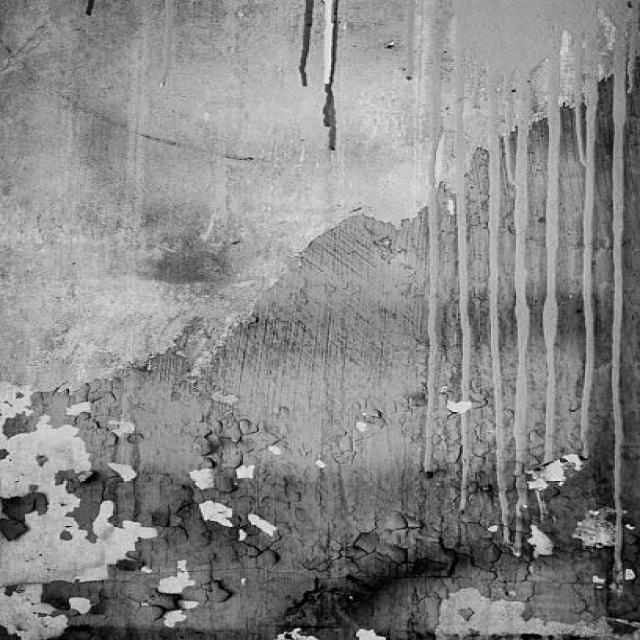paint drips: (397, 0, 640, 594), (294, 0, 352, 157), (149, 0, 207, 91), (70, 0, 111, 26)
